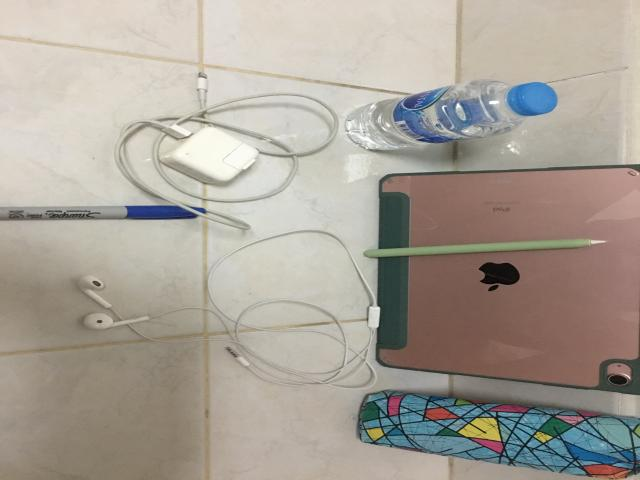Pen: (0, 205, 208, 220)
bottle: (345, 80, 557, 150)
wire: (78, 230, 377, 390), (115, 73, 338, 230)
